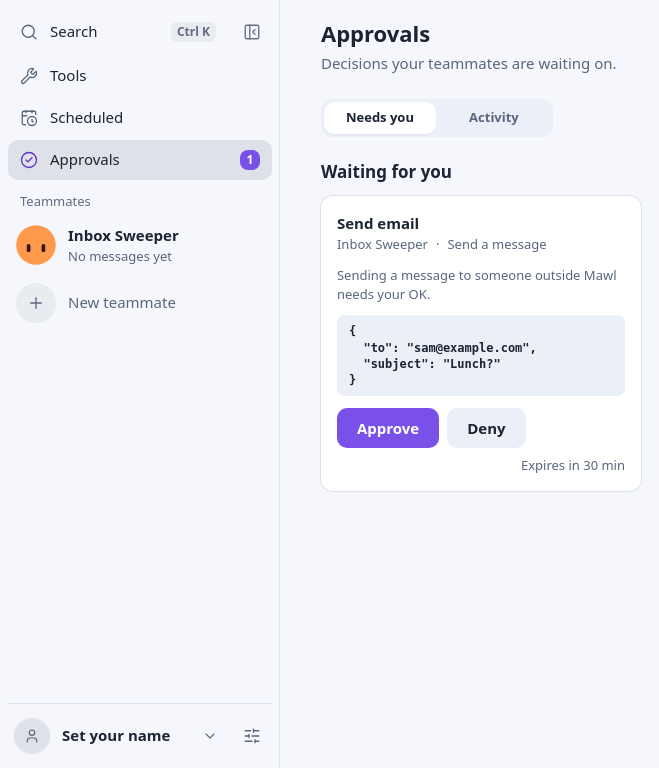
Scenario: approvals inbox › treats a conflict that claims pending as a failure, not a result
The width and height of the screenshot is (659, 768).
Click the button "Deny" at x=486, y=428, box [447,408,526,448]
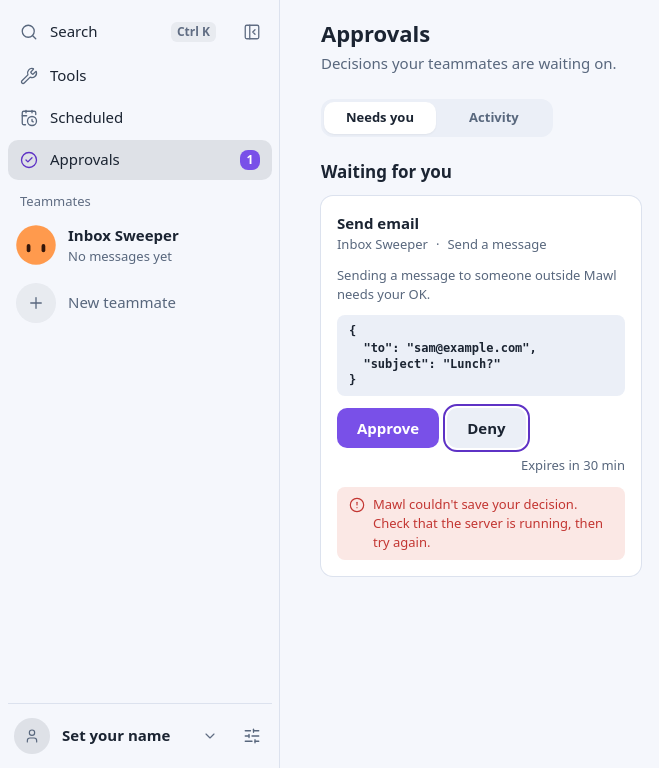
Now the message shows "couldn't save", box [373,495,603,551]
